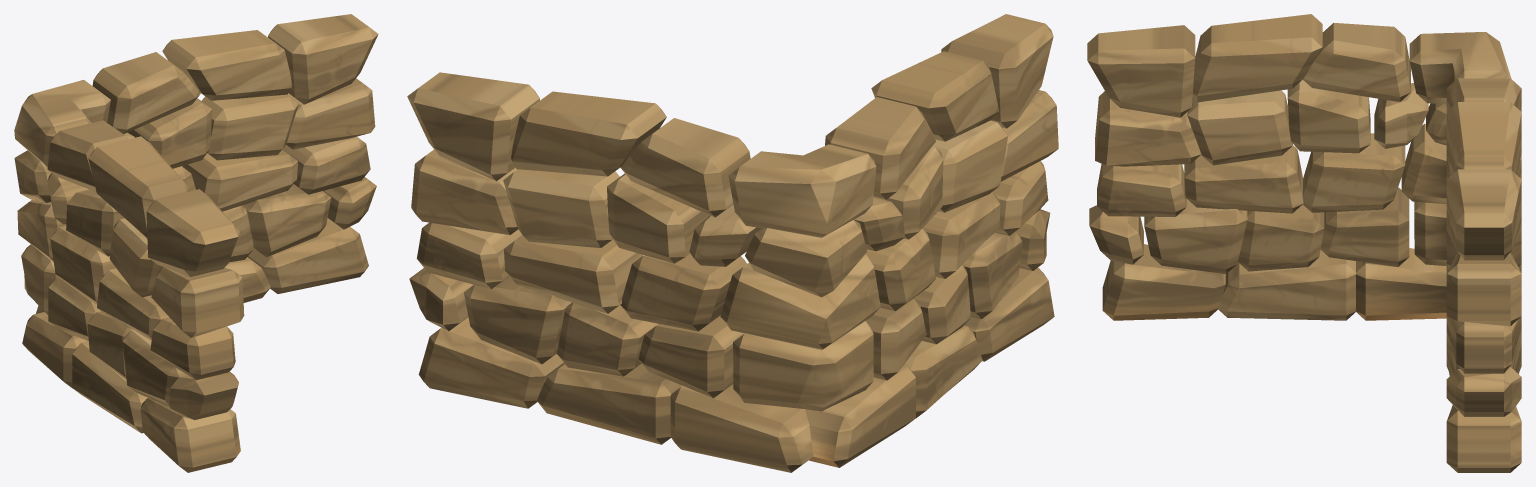
Rendered from mur_coin 1.FBX.
The picture shows the model from 3 angles, left to right: view 1: azimuth 30°, elevation 25°; view 2: azimuth 150°, elevation 25°; view 3: azimuth 270°, elevation 25°; orthographic projection. The views are drawn at different scales.
Visible parts, largest first — view 1: Box027; view 2: Box027; view 3: Box027.
Part boxes in pixels (<box>): Box027: <box>14,14,378,472</box>; Box027: <box>407,14,1058,472</box>; Box027: <box>1087,14,1521,472</box>.
Size of the model in its own units: 188 by 129 by 180.
Materials: 1 (1 with a texture image).
